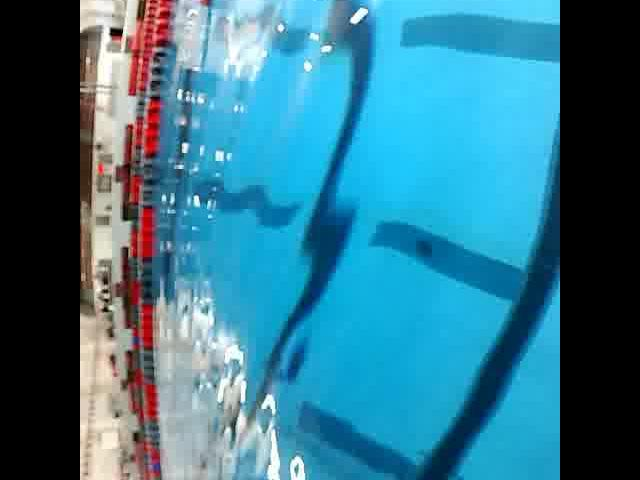Bottle: (174, 0, 214, 74)
